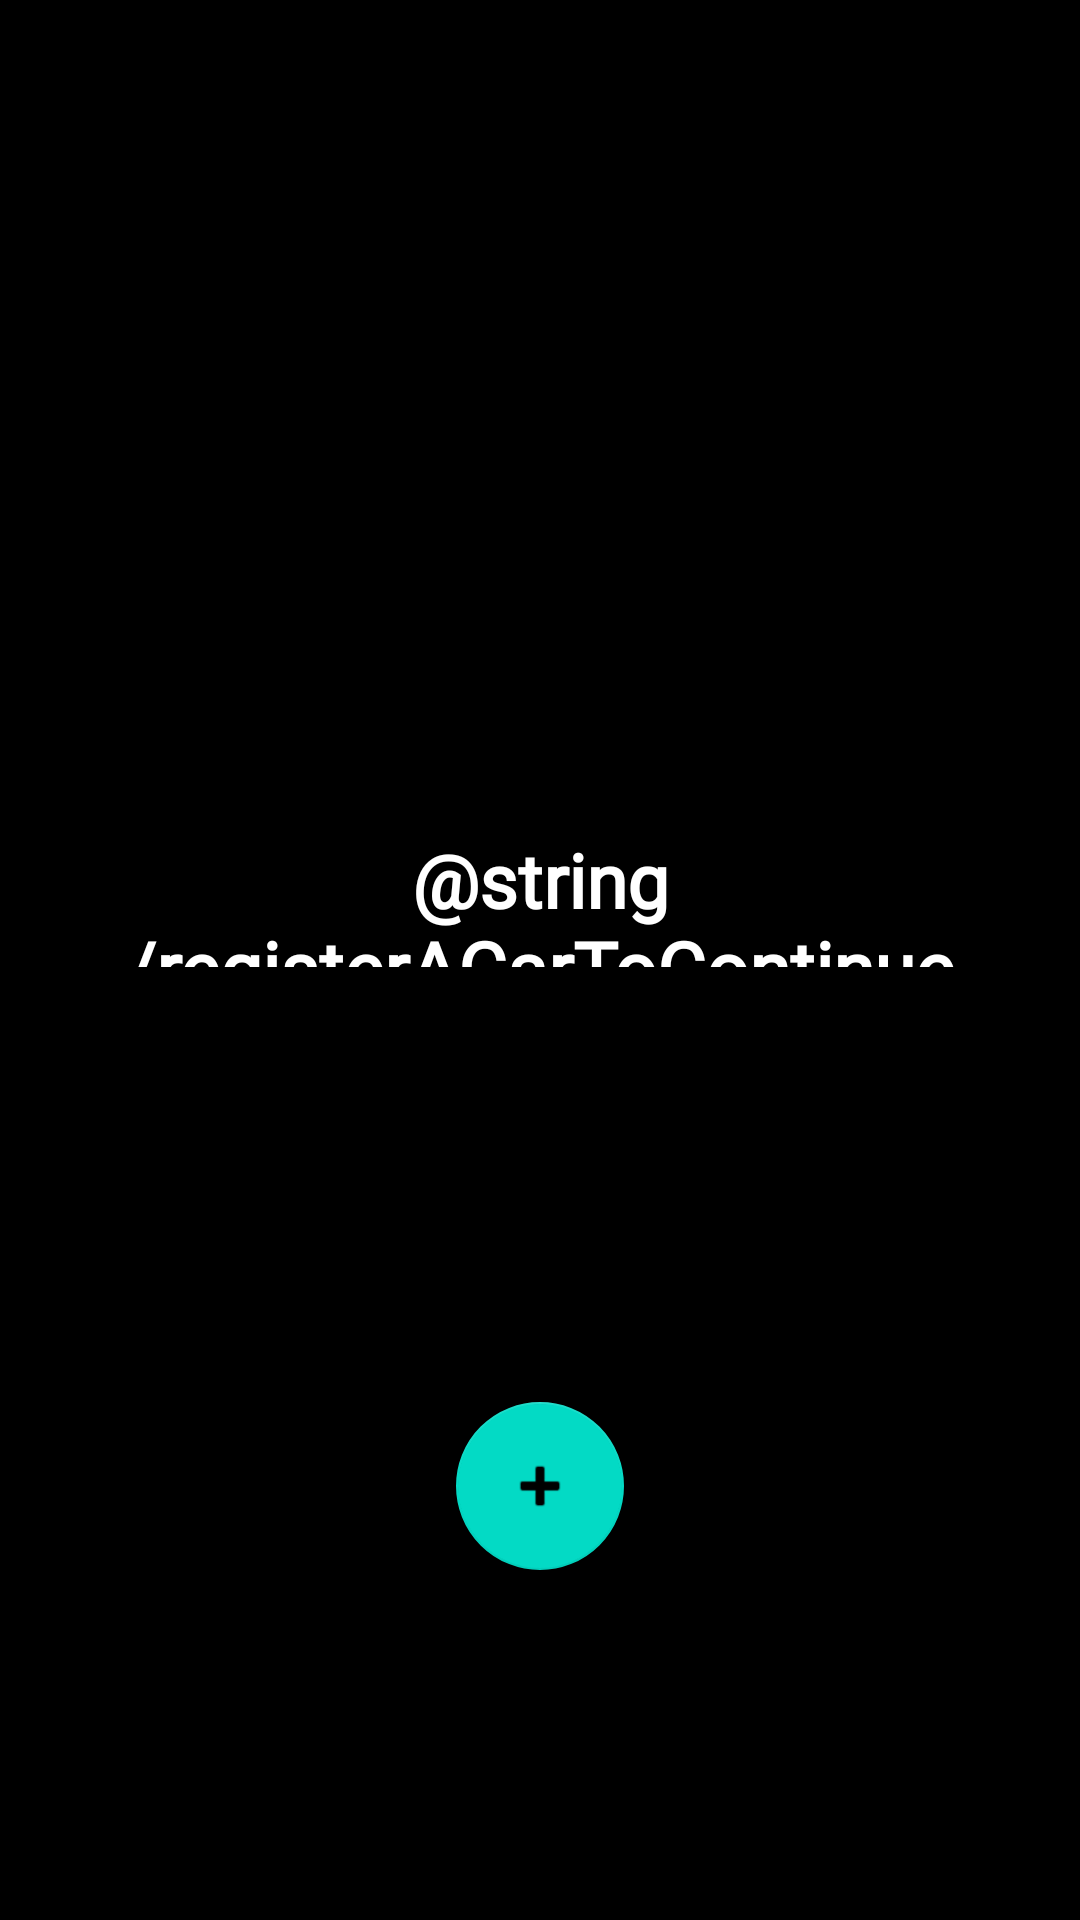

Where icons sit on this 1080 x 1920 app screen, as {"x1": x1, "y1": y1, "x2": x2, "y2": y2}:
add: {"x1": 456, "y1": 1402, "x2": 624, "y2": 1570}
